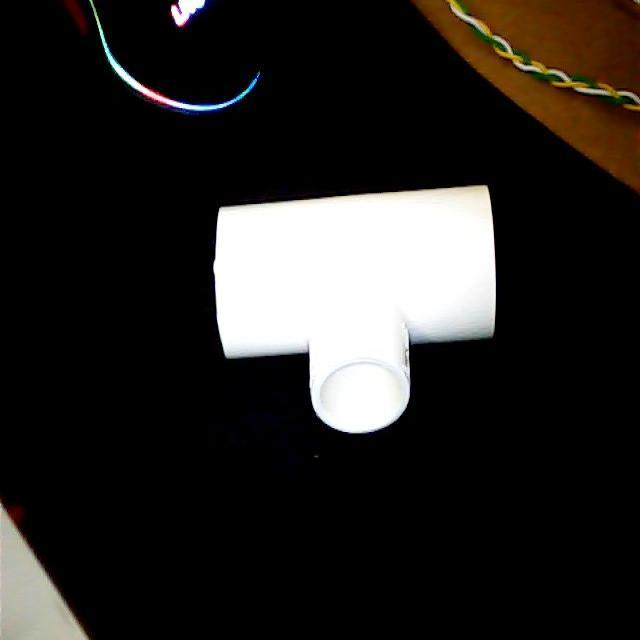T Joint: (213, 184, 504, 436)
